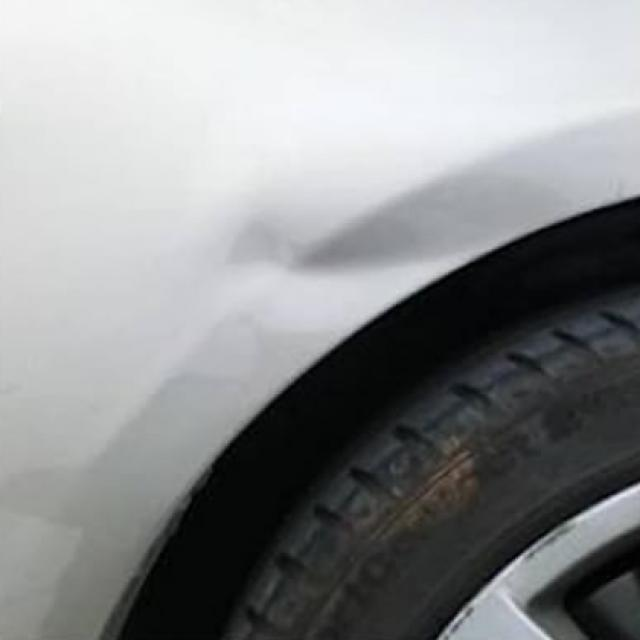dents: (218, 210, 468, 342)
